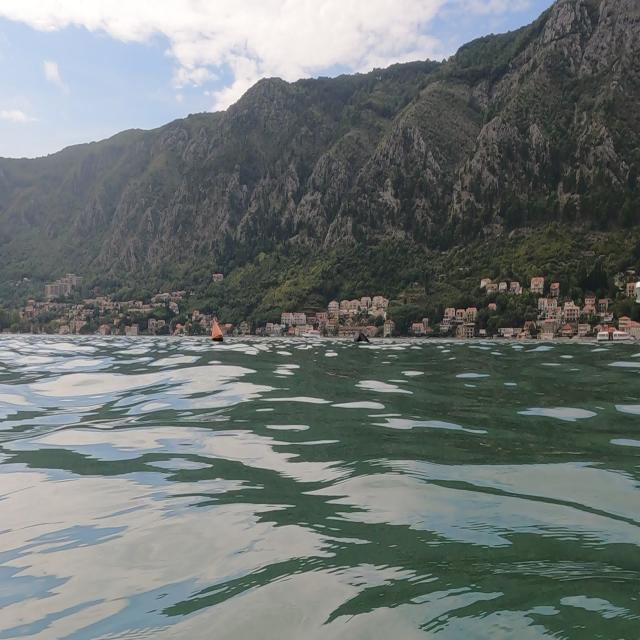buoy: (351, 322, 376, 352), (208, 314, 226, 350)
